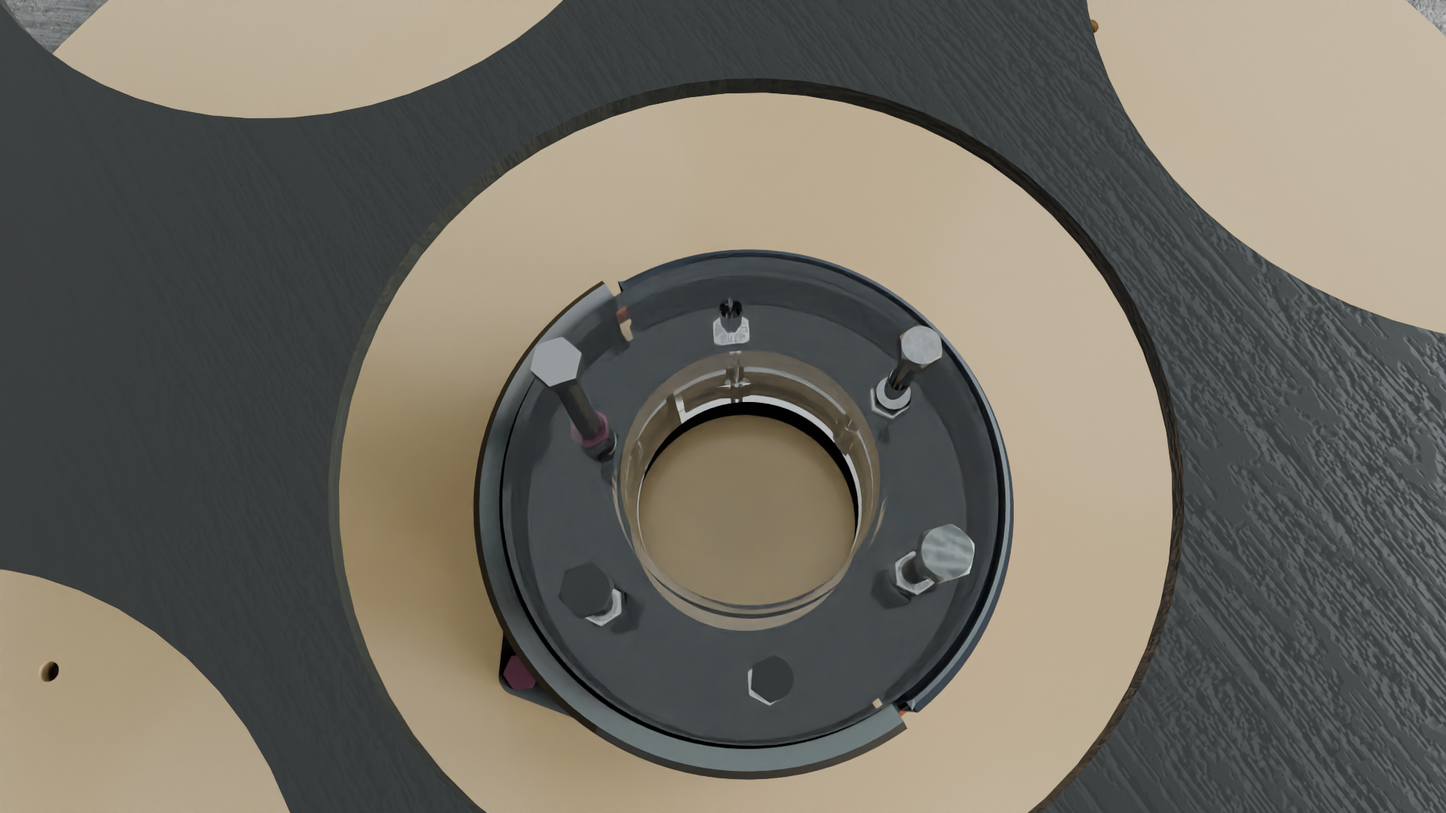bolt: (918, 524, 975, 582), (558, 562, 613, 618), (530, 336, 581, 387), (752, 654, 795, 703), (900, 325, 942, 369)
